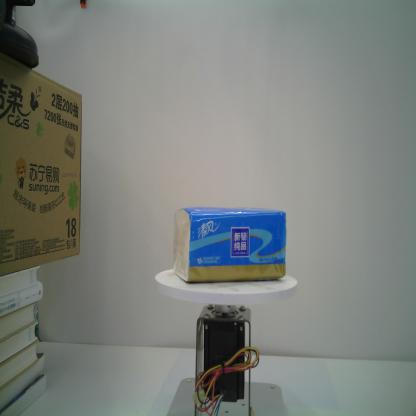Tissue: (172, 206, 287, 282)
